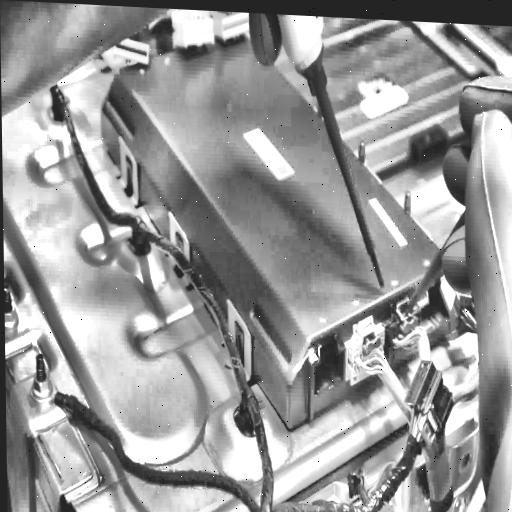bms_unit: (99, 30, 474, 433)
